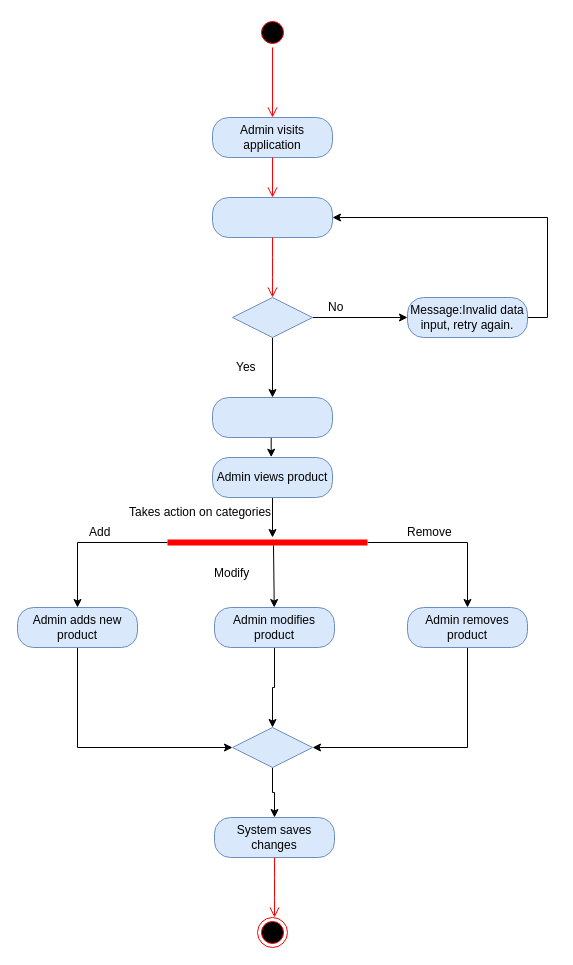
The diagram is 573 pixels wide and 965 high, and some of its shapes have lost their labels. The shapes that lost their labels are listed below. From the top down, each one's box as (x1, y1, x2, y2) in pixels, then its label:
(212, 196, 332, 238): Admin enters it's credentials
(212, 396, 332, 438): Admin logins
